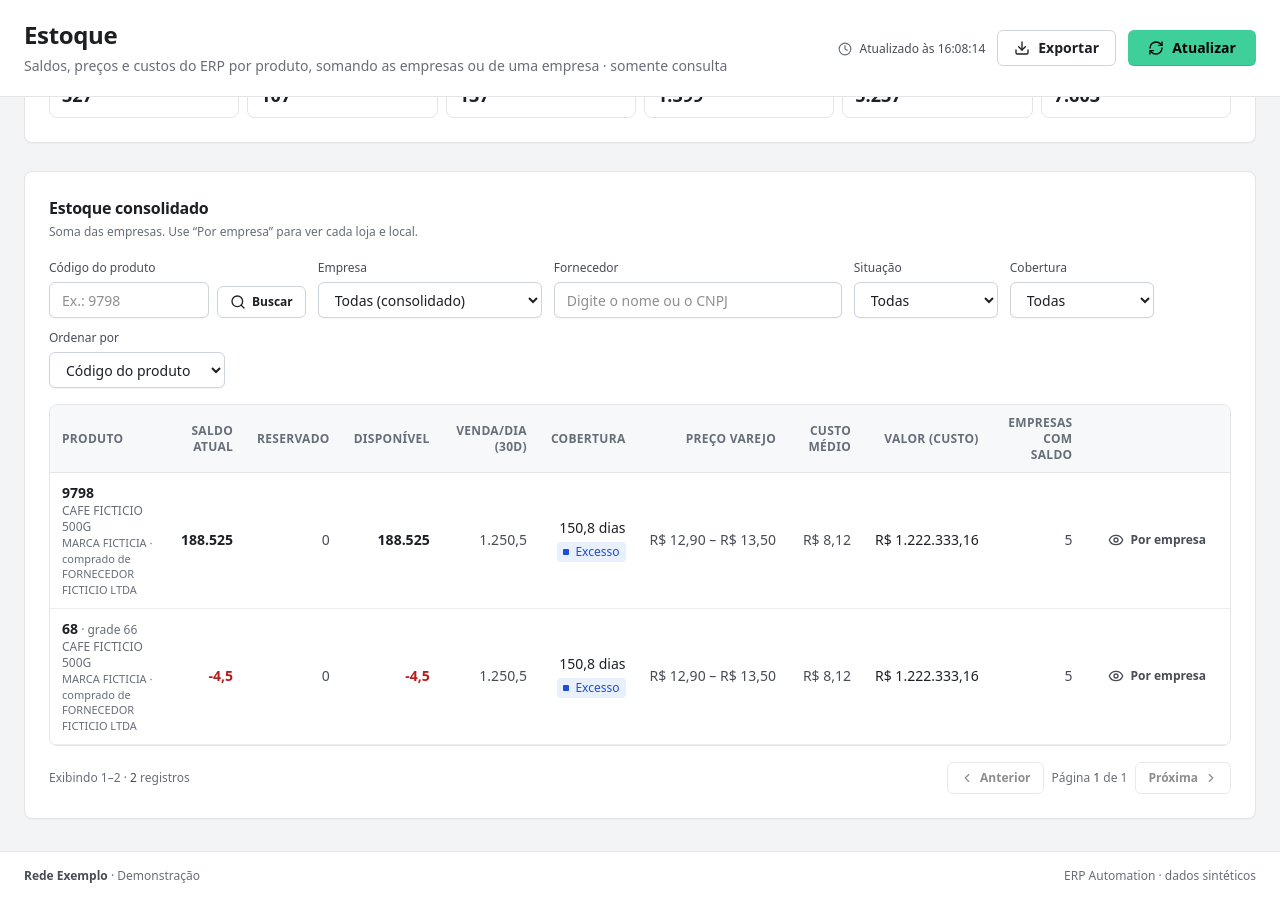
Test: EstoquePage › abre o detalhe do produto por empresa e local
(page scrolled)
Click the button with aria-label "Ver estoque do produto 9798 por empresa" at (1157,540), box [1096,524,1218,556]
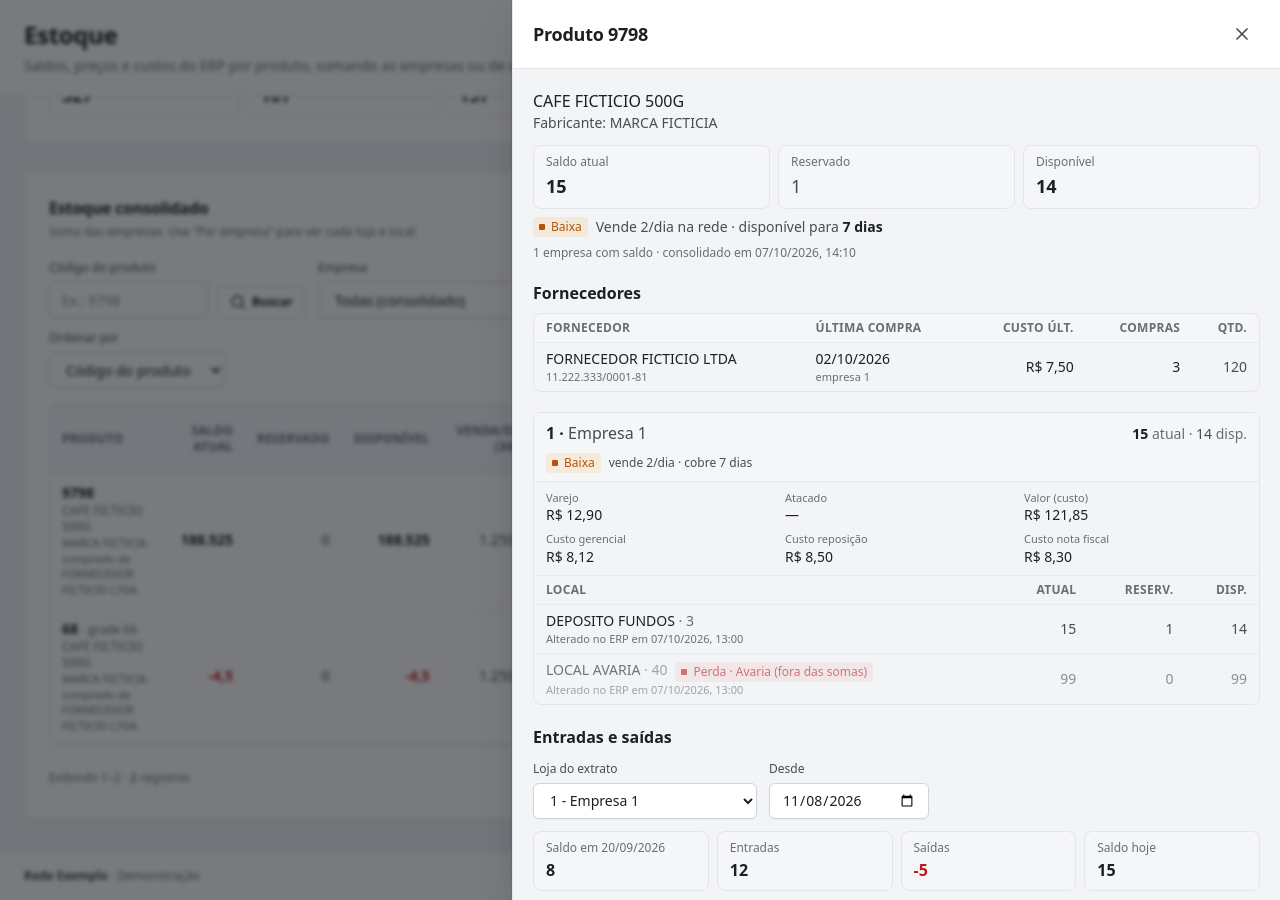
Expected: the element "Empresa 1" shows "DEPOSITO FUNDOS", [546,611,675,630]
Expected: the element "Empresa 1" shows "R$ 12,90", [546,505,602,524]
Expected: the element "Empresa 1" shows "R$ 121,85", [1024,505,1088,524]
